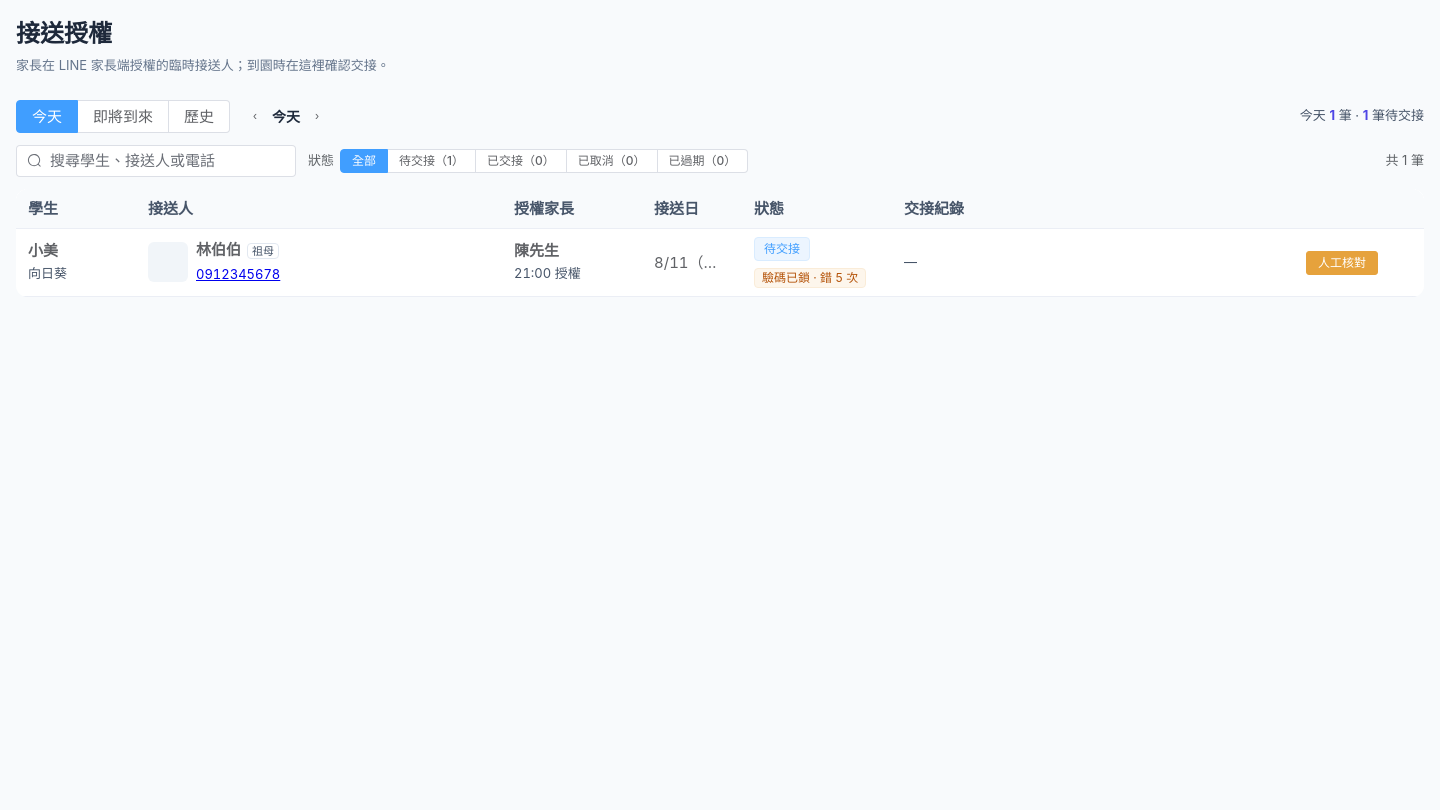
PickupAuthorizationsView (admin) › 鎖定的授權開啟彈窗時直接顯示鎖定橫幅，不能切回驗碼
The width and height of the screenshot is (1440, 810).
Click the button "人工核對". click: {"x": 1342, "y": 263}
box: x1=1306 y1=251 x2=1378 y2=275
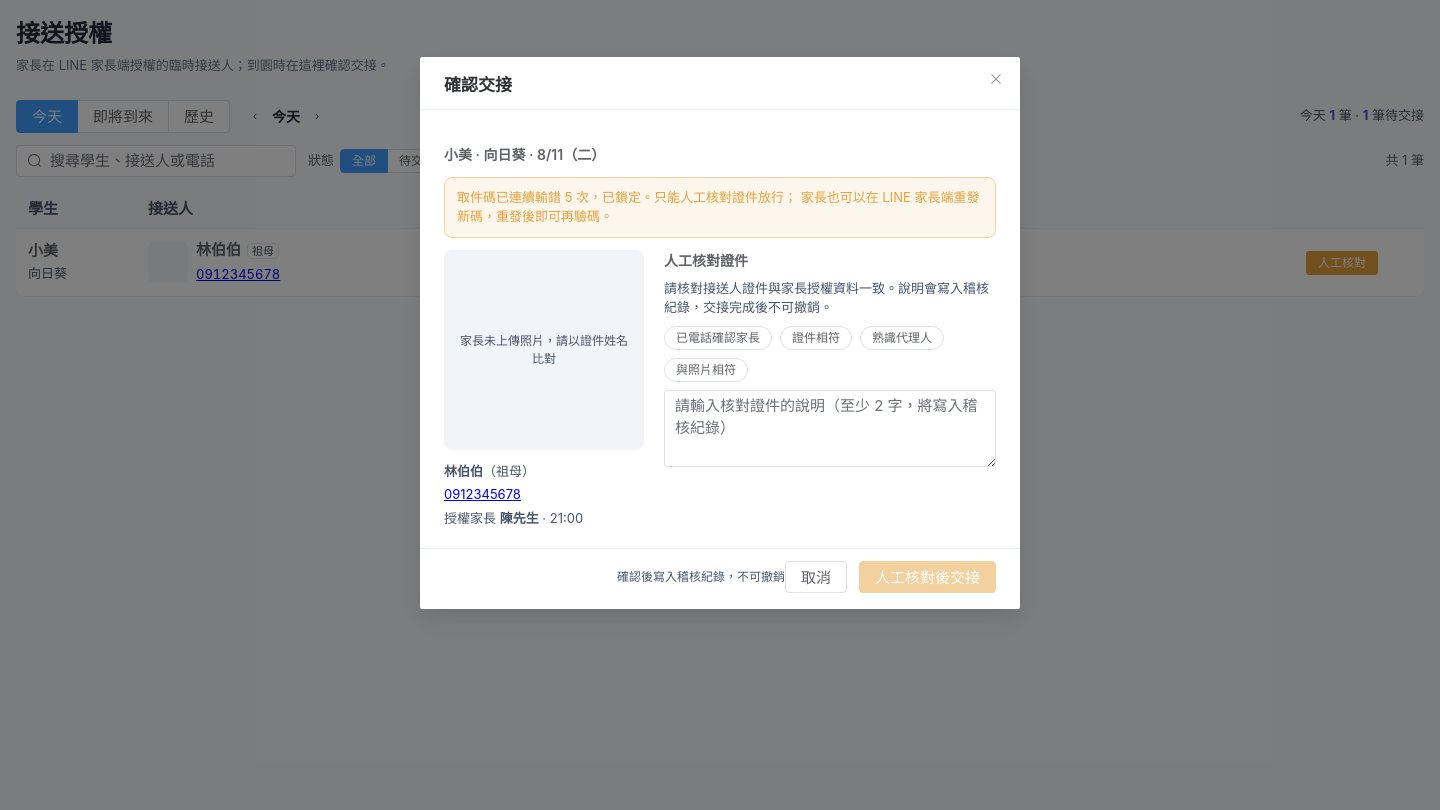
Expected: the text "已連續輸錯" is shown, x1=457 y1=189 x2=980 y2=224
